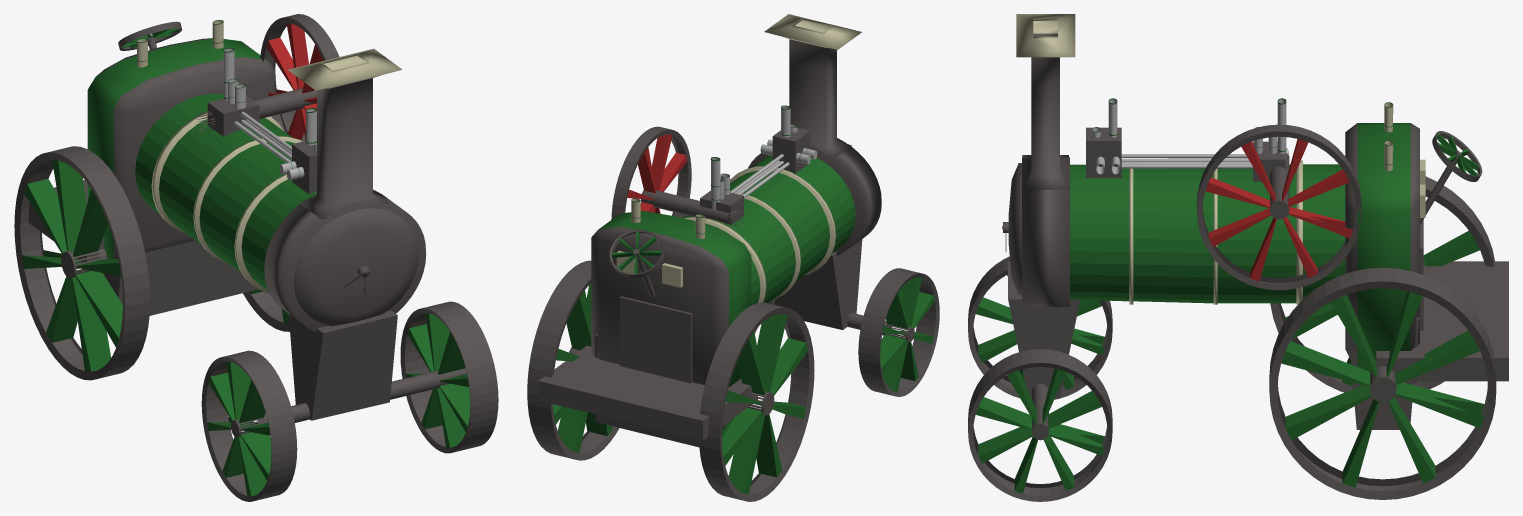
Rendered from road-engine-light.dae.
3 renders of one model, left to right at view 1: azimuth 30°, elevation 25°; view 2: azimuth 150°, elevation 25°; view 3: azimuth 270°, elevation 25°, orthographic. The views are drawn at different scales.
Parts seen in each view (by area): view 1: Cylinder, Cylinder_008, Cylinder_032, Cube_027, Cylinder_031, Cube_030, Cube, Cube_025, Cylinder_033, Cylinder_019, Cylinder_029, Cube_001 (+3 smaller); view 2: Cylinder, Cube_027, Cylinder_032, Cube_003, Cylinder_008, Cube_030, Cylinder_019, Cube_004, Cube, Cylinder_033, Cylinder_029, Cylinder_018 (+4 smaller); view 3: Cylinder_032, Cylinder, Cylinder_008, Cube_027, Cylinder_019, Cube_003, Cube_030, Cylinder_033, Cube, Cylinder_018, Cylinder_029, Cylinder_031 (+4 smaller).
Boxes of the visible parts, x1=… form: Cylinder: x1=14, y1=110, x2=305, y2=380; Cylinder_008: x1=201, y1=301, x2=498, y2=501; Cylinder_032: x1=135, y1=93, x2=316, y2=289; Cube_027: x1=87, y1=38, x2=275, y2=259; Cylinder_031: x1=294, y1=208, x2=419, y2=326; Cube_030: x1=287, y1=48, x2=402, y2=219; Cube: x1=288, y1=310, x2=397, y2=420; Cube_025: x1=103, y1=240, x2=258, y2=315; Cylinder_033: x1=264, y1=190, x2=426, y2=331; Cylinder_019: x1=195, y1=14, x2=339, y2=140; Cylinder_029: x1=151, y1=112, x2=302, y2=293; Cube_001: x1=207, y1=95, x2=259, y2=136; Cylinder: x1=527, y1=260, x2=814, y2=501; Cube_027: x1=591, y1=210, x2=751, y2=387; Cylinder_032: x1=683, y1=155, x2=855, y2=304; Cube_003: x1=538, y1=345, x2=757, y2=440; Cylinder_008: x1=754, y1=268, x2=939, y2=396; Cube_030: x1=764, y1=14, x2=861, y2=159; Cylinder_019: x1=611, y1=126, x2=743, y2=227; Cube_004: x1=619, y1=296, x2=692, y2=383; Cube: x1=774, y1=239, x2=862, y2=329; Cylinder_033: x1=748, y1=138, x2=881, y2=255; Cylinder_029: x1=683, y1=166, x2=836, y2=302; Cylinder_018: x1=609, y1=229, x2=664, y2=299; Cylinder_032: x1=1070, y1=164, x2=1345, y2=303; Cylinder: x1=1269, y1=176, x2=1496, y2=499; Cylinder_008: x1=968, y1=256, x2=1112, y2=501; Cube_027: x1=1345, y1=123, x2=1419, y2=371; Cylinder_019: x1=1196, y1=124, x2=1361, y2=290; Cube_003: x1=1376, y1=261, x2=1508, y2=381; Cube_030: x1=1016, y1=14, x2=1075, y2=189; Cylinder_033: x1=1022, y1=157, x2=1069, y2=306; Cube: x1=1008, y1=262, x2=1080, y2=397; Cylinder_018: x1=1420, y1=131, x2=1482, y2=224; Cylinder_029: x1=1129, y1=160, x2=1302, y2=304; Cylinder_031: x1=1008, y1=163, x2=1021, y2=294.
Size of the model in its own units: 1.42 by 2.83 by 2.41.
